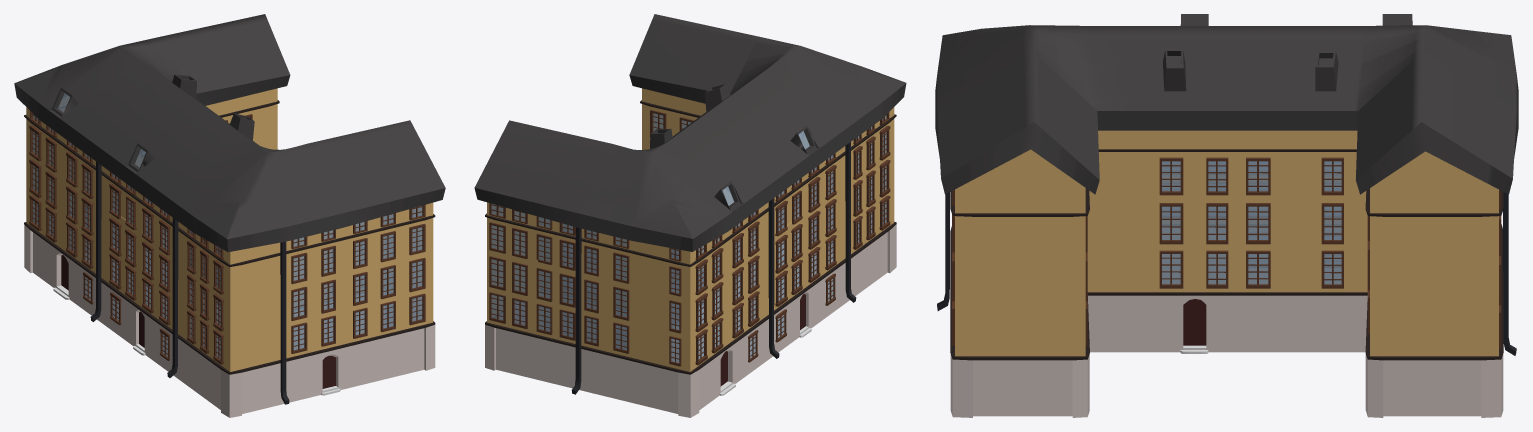
Rendered from CafeRestaurangStorTorget.fbx.
The picture shows the model from 3 angles, left to right: view 1: azimuth 30°, elevation 25°; view 2: azimuth 150°, elevation 25°; view 3: azimuth 270°, elevation 25°; orthographic projection. The views are drawn at different scales.
Parts seen in each view (by area): view 1: CaféStortorget; view 2: CaféStortorget; view 3: CaféStortorget.
Boxes of the visible parts, bbox=[...] form: CaféStortorget: bbox=[14, 14, 445, 417]; CaféStortorget: bbox=[474, 14, 906, 417]; CaféStortorget: bbox=[935, 14, 1518, 417].
Bounding box in the file's own units: 294 × 280 × 491.
